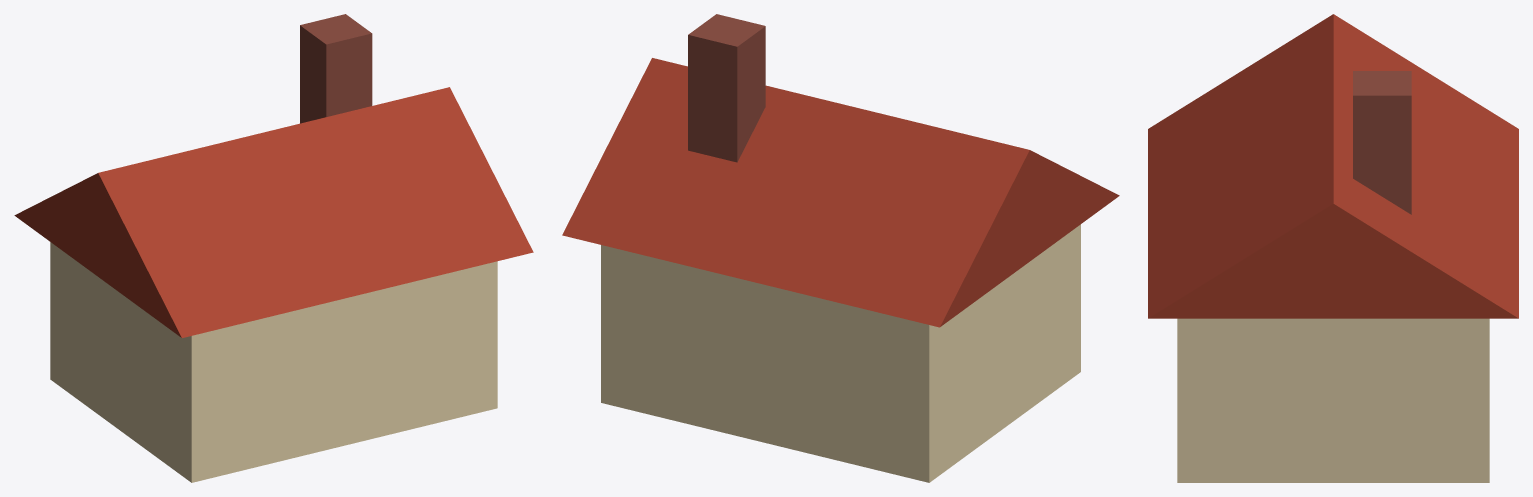
File: cottage.fbx
3 renders of one model, left to right at view 1: azimuth 30°, elevation 25°; view 2: azimuth 150°, elevation 25°; view 3: azimuth 270°, elevation 25°, orthographic. The views are drawn at different scales.
Parts seen in each view (by area): view 1: Cottage, Chimney; view 2: Cottage, Chimney; view 3: Cottage, Chimney.
Boxes of the visible parts, <box> form: Cottage: <box>14,87,533,482</box>; Chimney: <box>300,14,372,123</box>; Cottage: <box>562,58,1119,482</box>; Chimney: <box>688,14,765,162</box>; Cottage: <box>1148,14,1518,482</box>; Chimney: <box>1353,71,1411,214</box>.
Bounding box in the file's own units: 2.3 × 2.05 × 1.9.
